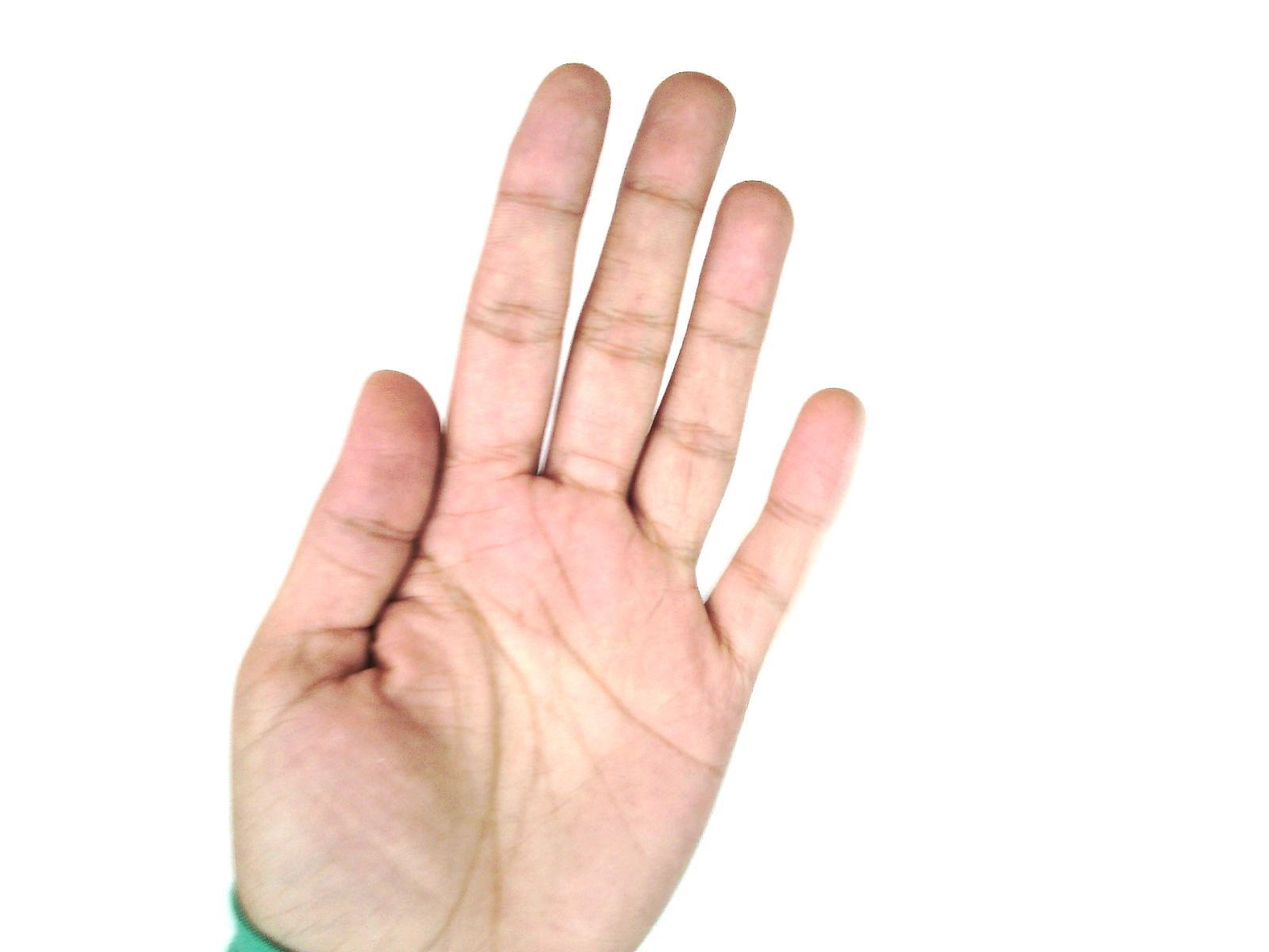open_palm: (224, 61, 869, 951)
